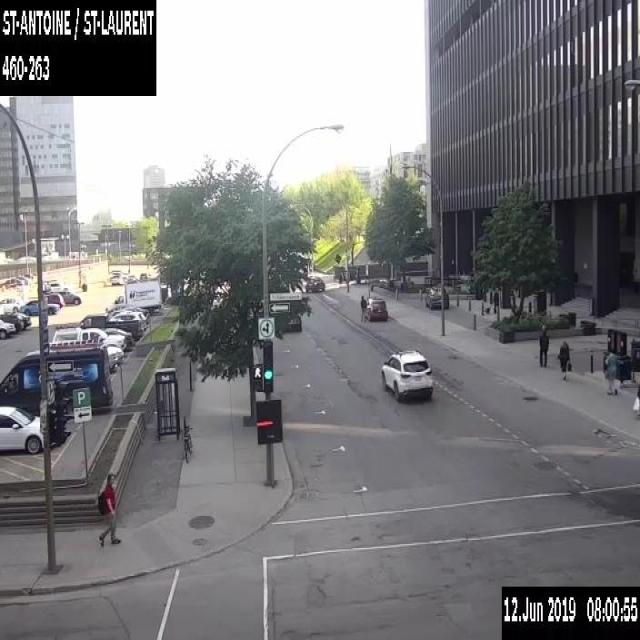pedestrian: (95, 471, 121, 547), (556, 338, 571, 381), (603, 351, 616, 393), (536, 331, 548, 368), (632, 384, 639, 416), (359, 292, 366, 321)
vehicle: (0, 338, 113, 415), (380, 348, 433, 403), (56, 312, 142, 338), (105, 275, 161, 314), (0, 405, 44, 454), (52, 326, 126, 351), (107, 305, 149, 325), (108, 310, 145, 330), (102, 327, 132, 348), (19, 299, 60, 314), (424, 285, 448, 309), (364, 296, 387, 320), (45, 289, 80, 304), (106, 345, 124, 371), (8, 310, 31, 329), (0, 296, 25, 313), (0, 313, 24, 330), (304, 274, 324, 292), (42, 279, 72, 291), (44, 292, 65, 308), (285, 312, 302, 331), (0, 318, 15, 338), (1, 276, 24, 288), (108, 271, 127, 280), (111, 274, 123, 284), (17, 275, 30, 284), (110, 268, 127, 274), (128, 273, 135, 281), (139, 272, 146, 278)
